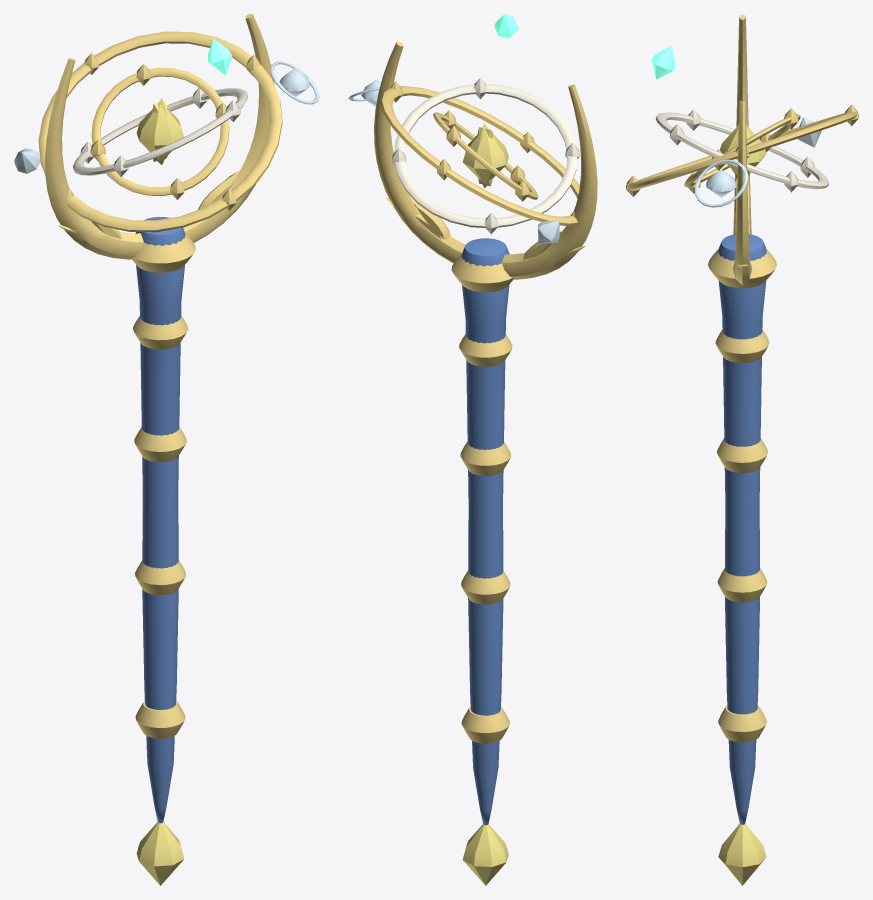
The model's file is art_gild_ninth_sky_orrery.fbx.
3 views of the same model, side by side, from view 1: azimuth 30°, elevation 25°; view 2: azimuth 150°, elevation 25°; view 3: azimuth 270°, elevation 25° (orthographic). The views are drawn at different scales.
Visible parts, largest first — view 1: Handle.004, Cradle, OrreryRing1, ShaftBands, OrreryRing3, OrreryRing2, Pommel.002, OrreryStar, OrreryMoon1; view 2: Handle.004, Cradle, ShaftBands, OrreryRing2, OrreryRing1, Pommel.002, OrreryRing3, OrreryStar; view 3: Handle.004, ShaftBands, Cradle, OrreryRing2, OrreryRing1, Pommel.002, OrreryRing3, OrreryMoon1, OrreryStar, OrreryMoon3.
Part boxes in pixels (x1,y1,x2,y2): Handle.004: [136, 217, 185, 823]; Cradle: [45, 14, 274, 259]; OrreryRing1: [38, 31, 282, 232]; ShaftBands: [132, 232, 195, 738]; OrreryRing3: [90, 64, 229, 199]; OrreryRing2: [72, 88, 248, 176]; Pommel.002: [136, 822, 184, 885]; OrreryStar: [136, 98, 183, 164]; OrreryMoon1: [270, 61, 319, 104]; Handle.004: [461, 238, 509, 825]; Cradle: [374, 42, 597, 279]; ShaftBands: [451, 253, 513, 743]; OrreryRing2: [392, 78, 579, 234]; OrreryRing1: [380, 81, 579, 226]; Pommel.002: [462, 824, 508, 885]; OrreryRing3: [433, 110, 538, 201]; OrreryStar: [462, 123, 508, 187]; Handle.004: [718, 234, 766, 824]; ShaftBands: [708, 249, 776, 742]; Cradle: [733, 14, 751, 284]; OrreryRing2: [655, 109, 829, 192]; OrreryRing1: [626, 104, 858, 196]; Pommel.002: [718, 824, 766, 885]; OrreryRing3: [684, 108, 800, 193]; OrreryMoon1: [694, 159, 747, 207]; OrreryStar: [720, 124, 766, 176]; OrreryMoon3: [651, 45, 675, 79].
Bounding box in the file's own units: 1.95 × 6.2 × 1.54.
